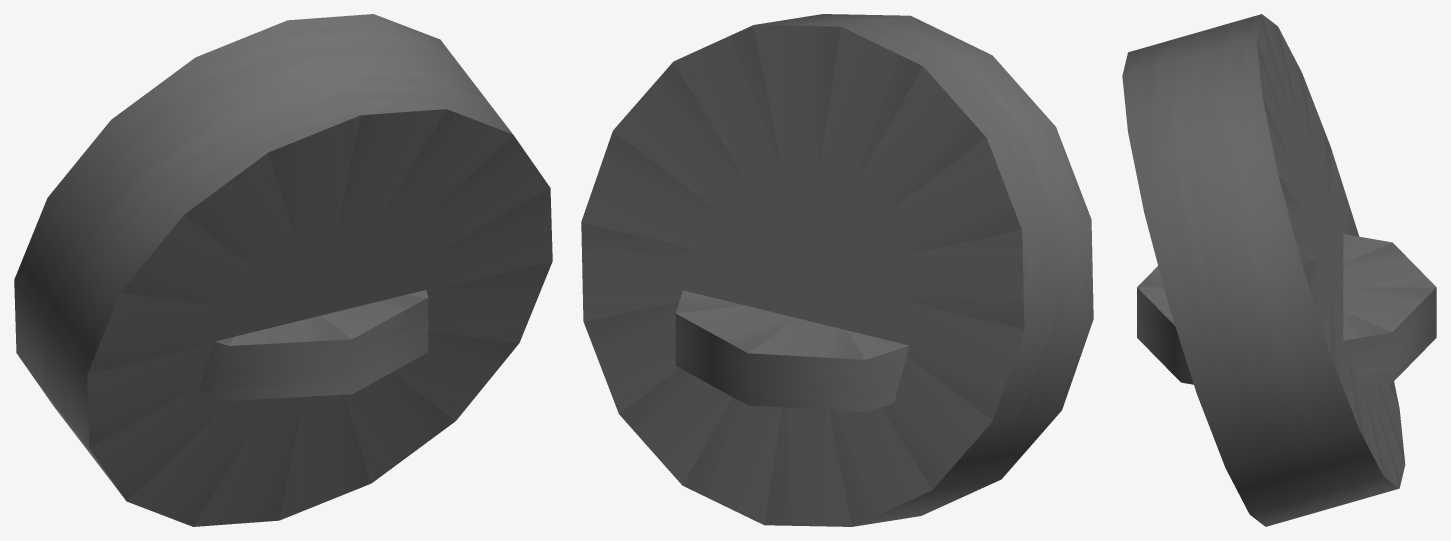
Rendered from mastarmcurve_4x1_c2_down.obj.
The picture shows the model from 3 angles, left to right: view 1: azimuth 30°, elevation 25°; view 2: azimuth 150°, elevation 25°; view 3: azimuth 270°, elevation 25°; orthographic projection. The views are drawn at different scales.
Visible parts, largest first — view 1: mastarm_4x1_c2_down; view 2: mastarm_4x1_c2_down; view 3: mastarm_4x1_c2_down.
Boxes of the visible parts, x1,y1,x2,y2 form: mastarm_4x1_c2_down: [14, 14, 552, 526]; mastarm_4x1_c2_down: [581, 14, 1093, 526]; mastarm_4x1_c2_down: [1122, 14, 1436, 526].
Size of the model in its own units: 0.66 by 0.6858 by 0.4196.
